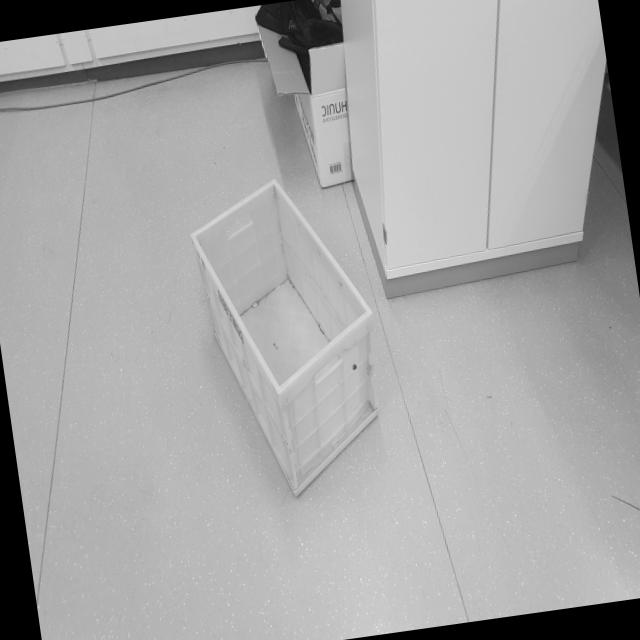box: (176, 155, 411, 516)
